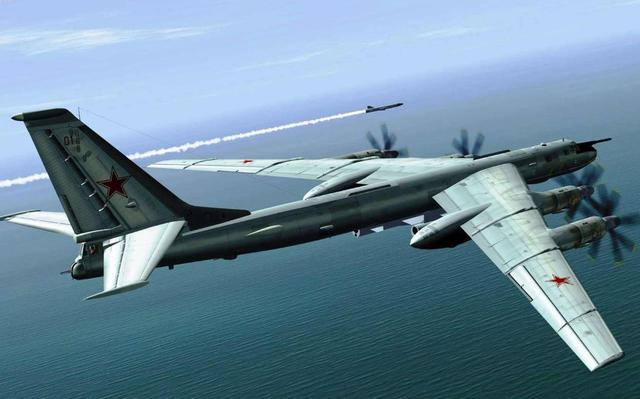airplane: (1, 105, 625, 376)
